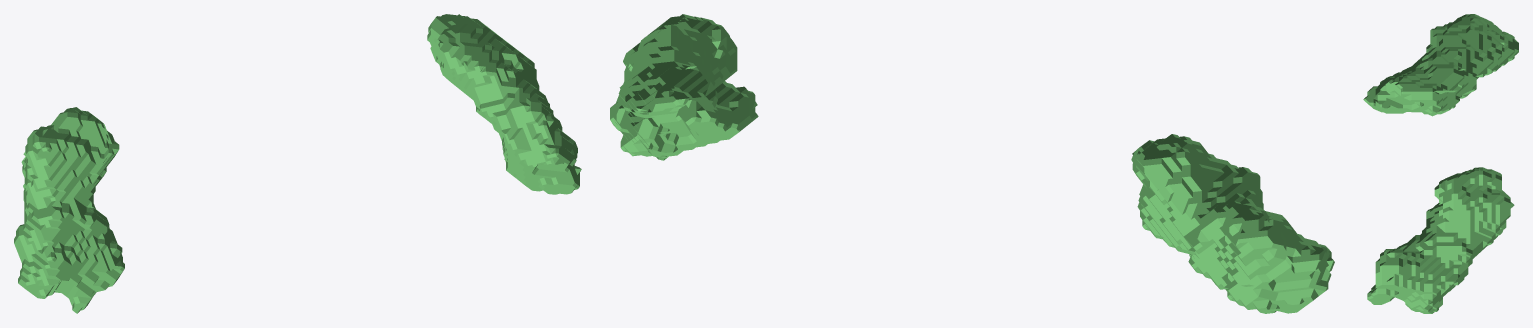
Rendered from region_0092_NI__isthmic_nucleus_.glb.
The picture shows the model from 3 angles, left to right: view 1: azimuth 30°, elevation 25°; view 2: azimuth 150°, elevation 25°; view 3: azimuth 270°, elevation 25°; orthographic projection. The views are drawn at different scales.
Visible parts, largest first — view 1: world; view 2: world; view 3: world.
Part boxes in pixels (x1,y1,x2,y2): world: [14, 14, 581, 313]; world: [610, 14, 1334, 313]; world: [1363, 14, 1518, 313].
Size of the model in its own units: 0.968 by 0.248 by 0.296.
